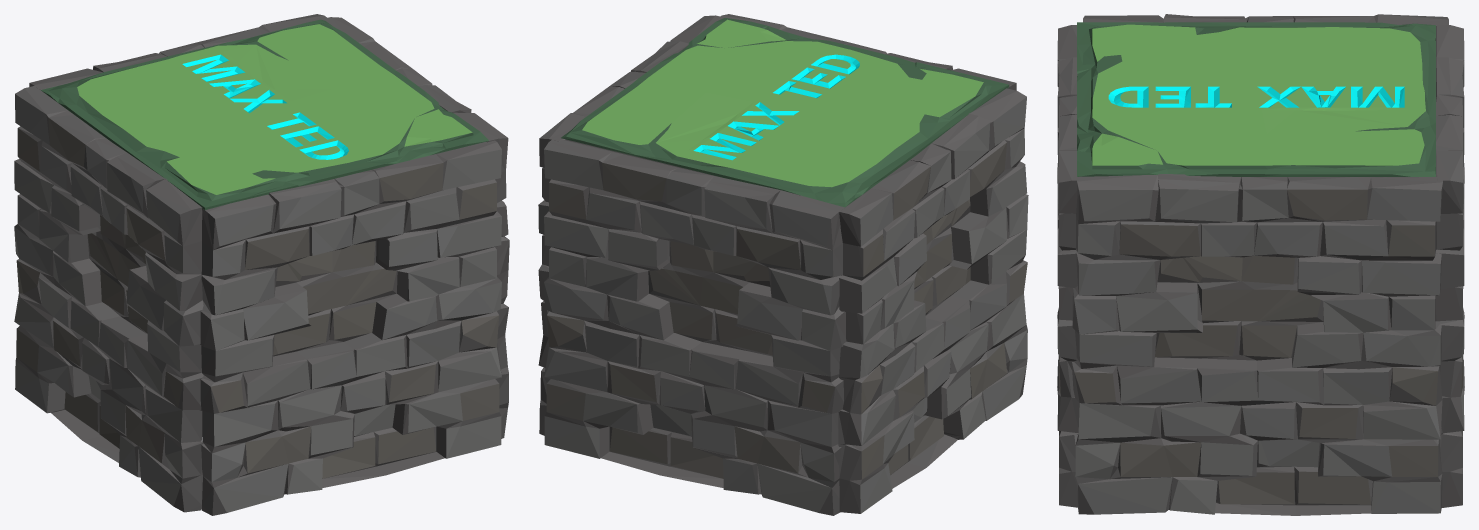
The model's file is SM_Env_Coner_A_01.glb.
3 renders of one model, left to right at view 1: azimuth 30°, elevation 25°; view 2: azimuth 150°, elevation 25°; view 3: azimuth 270°, elevation 25°, orthographic. The views are drawn at different scales.
Visible parts, largest first — view 1: SM_Env_Coner_A_01; view 2: SM_Env_Coner_A_01; view 3: SM_Env_Coner_A_01.
Boxes of the visible parts, <box> form: SM_Env_Coner_A_01: <box>14,14,509,515</box>; SM_Env_Coner_A_01: <box>538,14,1028,515</box>; SM_Env_Coner_A_01: <box>1057,14,1464,515</box>.
Size of the model in its own units: 5.74 by 5.19 by 5.68.
Materials: 1 (1 with a texture image).
